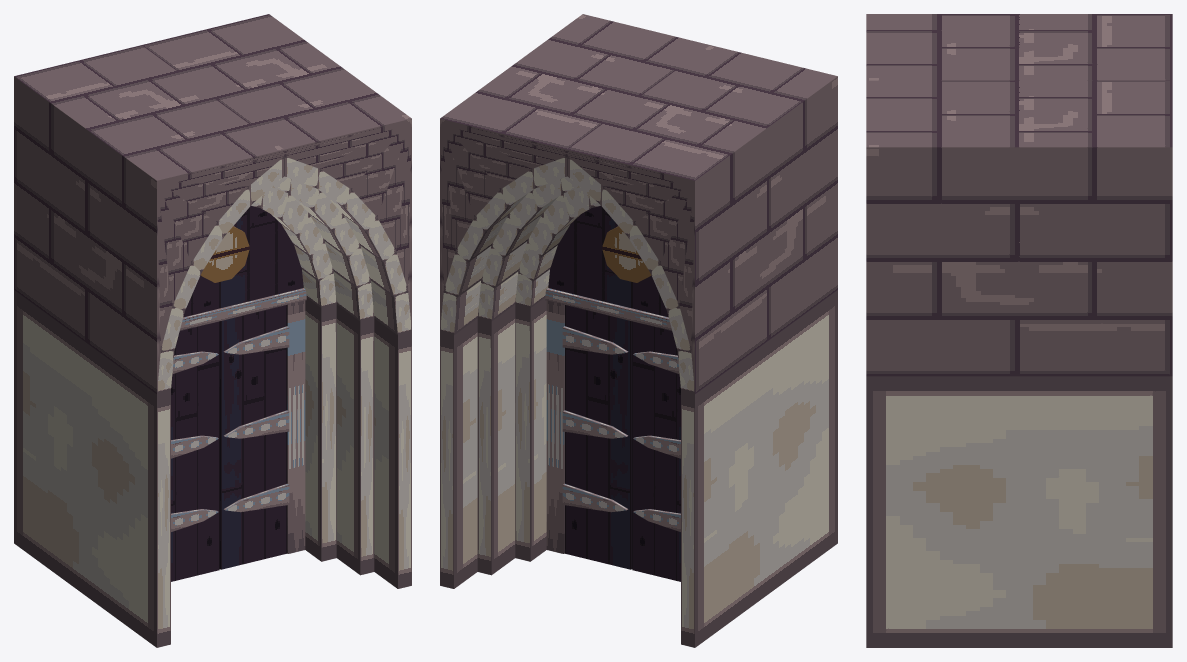
Rendered from door_boss.glb.
3 views of the same model, side by side, from view 1: azimuth 30°, elevation 25°; view 2: azimuth 150°, elevation 25°; view 3: azimuth 270°, elevation 25° (orthographic). The views are drawn at different scales.
Parts seen in each view (by area): view 1: portal, leaf_a, leaf_b; view 2: portal, leaf_a, leaf_b; view 3: portal.
Part boxes in pixels (x1,y1,x2,y2): portal: [14, 14, 411, 647]; leaf_a: [219, 305, 289, 569]; leaf_b: [171, 321, 219, 581]; portal: [440, 14, 837, 647]; leaf_a: [562, 305, 632, 569]; leaf_b: [632, 321, 680, 581]; portal: [866, 14, 1172, 647].
Bounding box in the file's own units: 2 × 3.5 × 1.94.
1 material, 1 textured.
